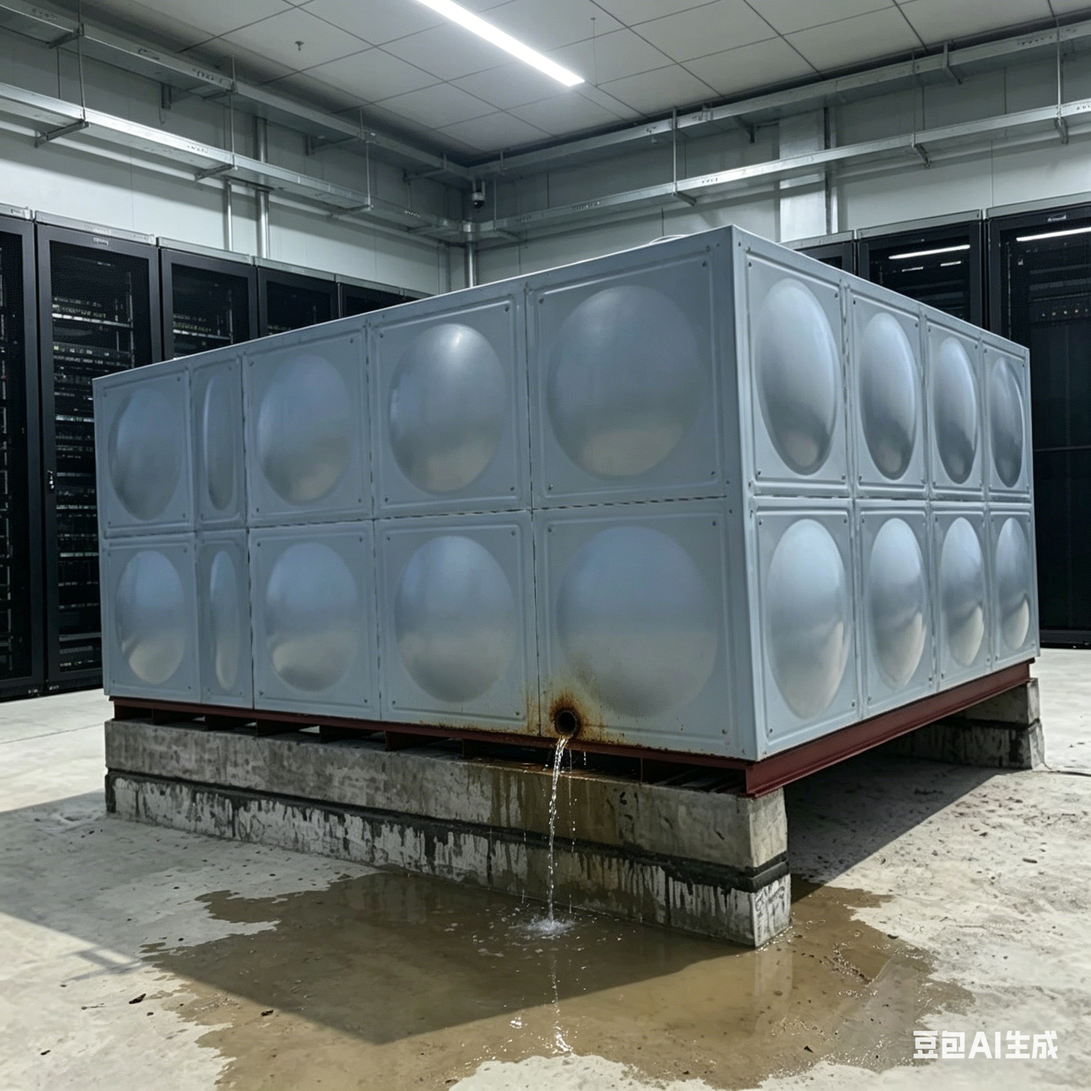Leakage: (618, 904, 939, 1091), (225, 902, 511, 1091), (519, 698, 596, 1051), (150, 937, 221, 1053), (349, 860, 511, 904)
